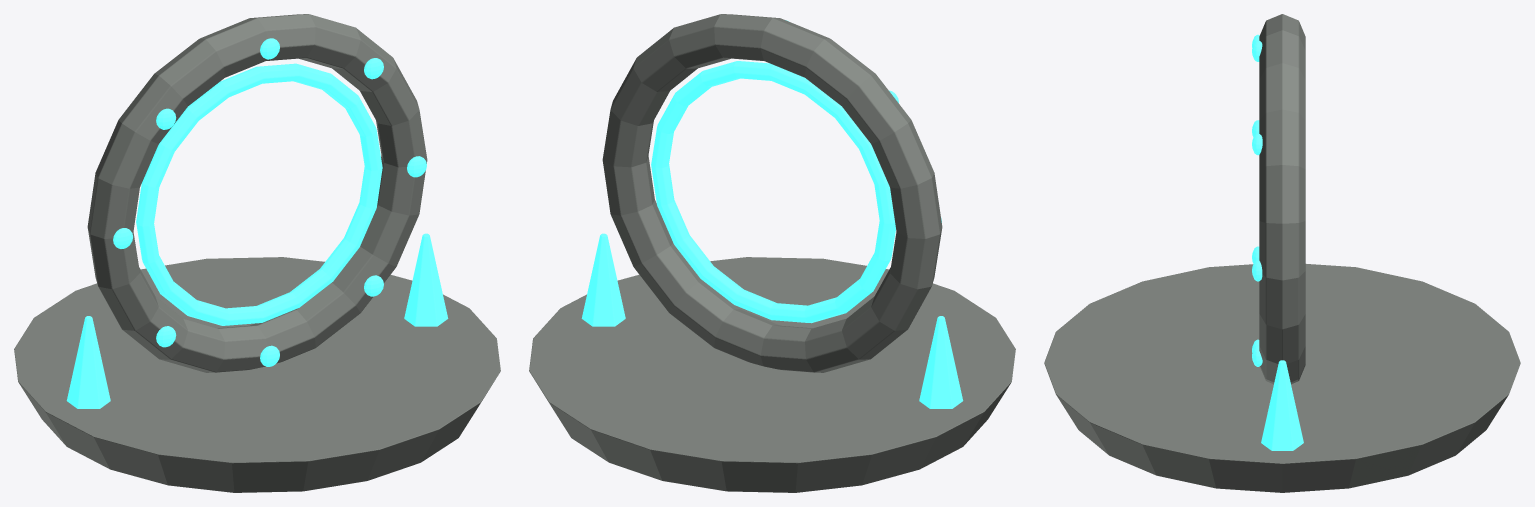
Rendered from SM_Teleporter.fbx.
The picture shows the model from 3 angles, left to right: view 1: azimuth 30°, elevation 25°; view 2: azimuth 150°, elevation 25°; view 3: azimuth 270°, elevation 25°; orthographic projection. The views are drawn at different scales.
Parts seen in each view (by area): view 1: SM_Teleporter; view 2: SM_Teleporter; view 3: SM_Teleporter.
Part boxes in pixels (left/top/right/bottom): SM_Teleporter: left=14, top=14, right=500, bottom=492; SM_Teleporter: left=529, top=14, right=1015, bottom=492; SM_Teleporter: left=1044, top=14, right=1520, bottom=492.
Size of the model in its own units: 389 by 389 by 336.
